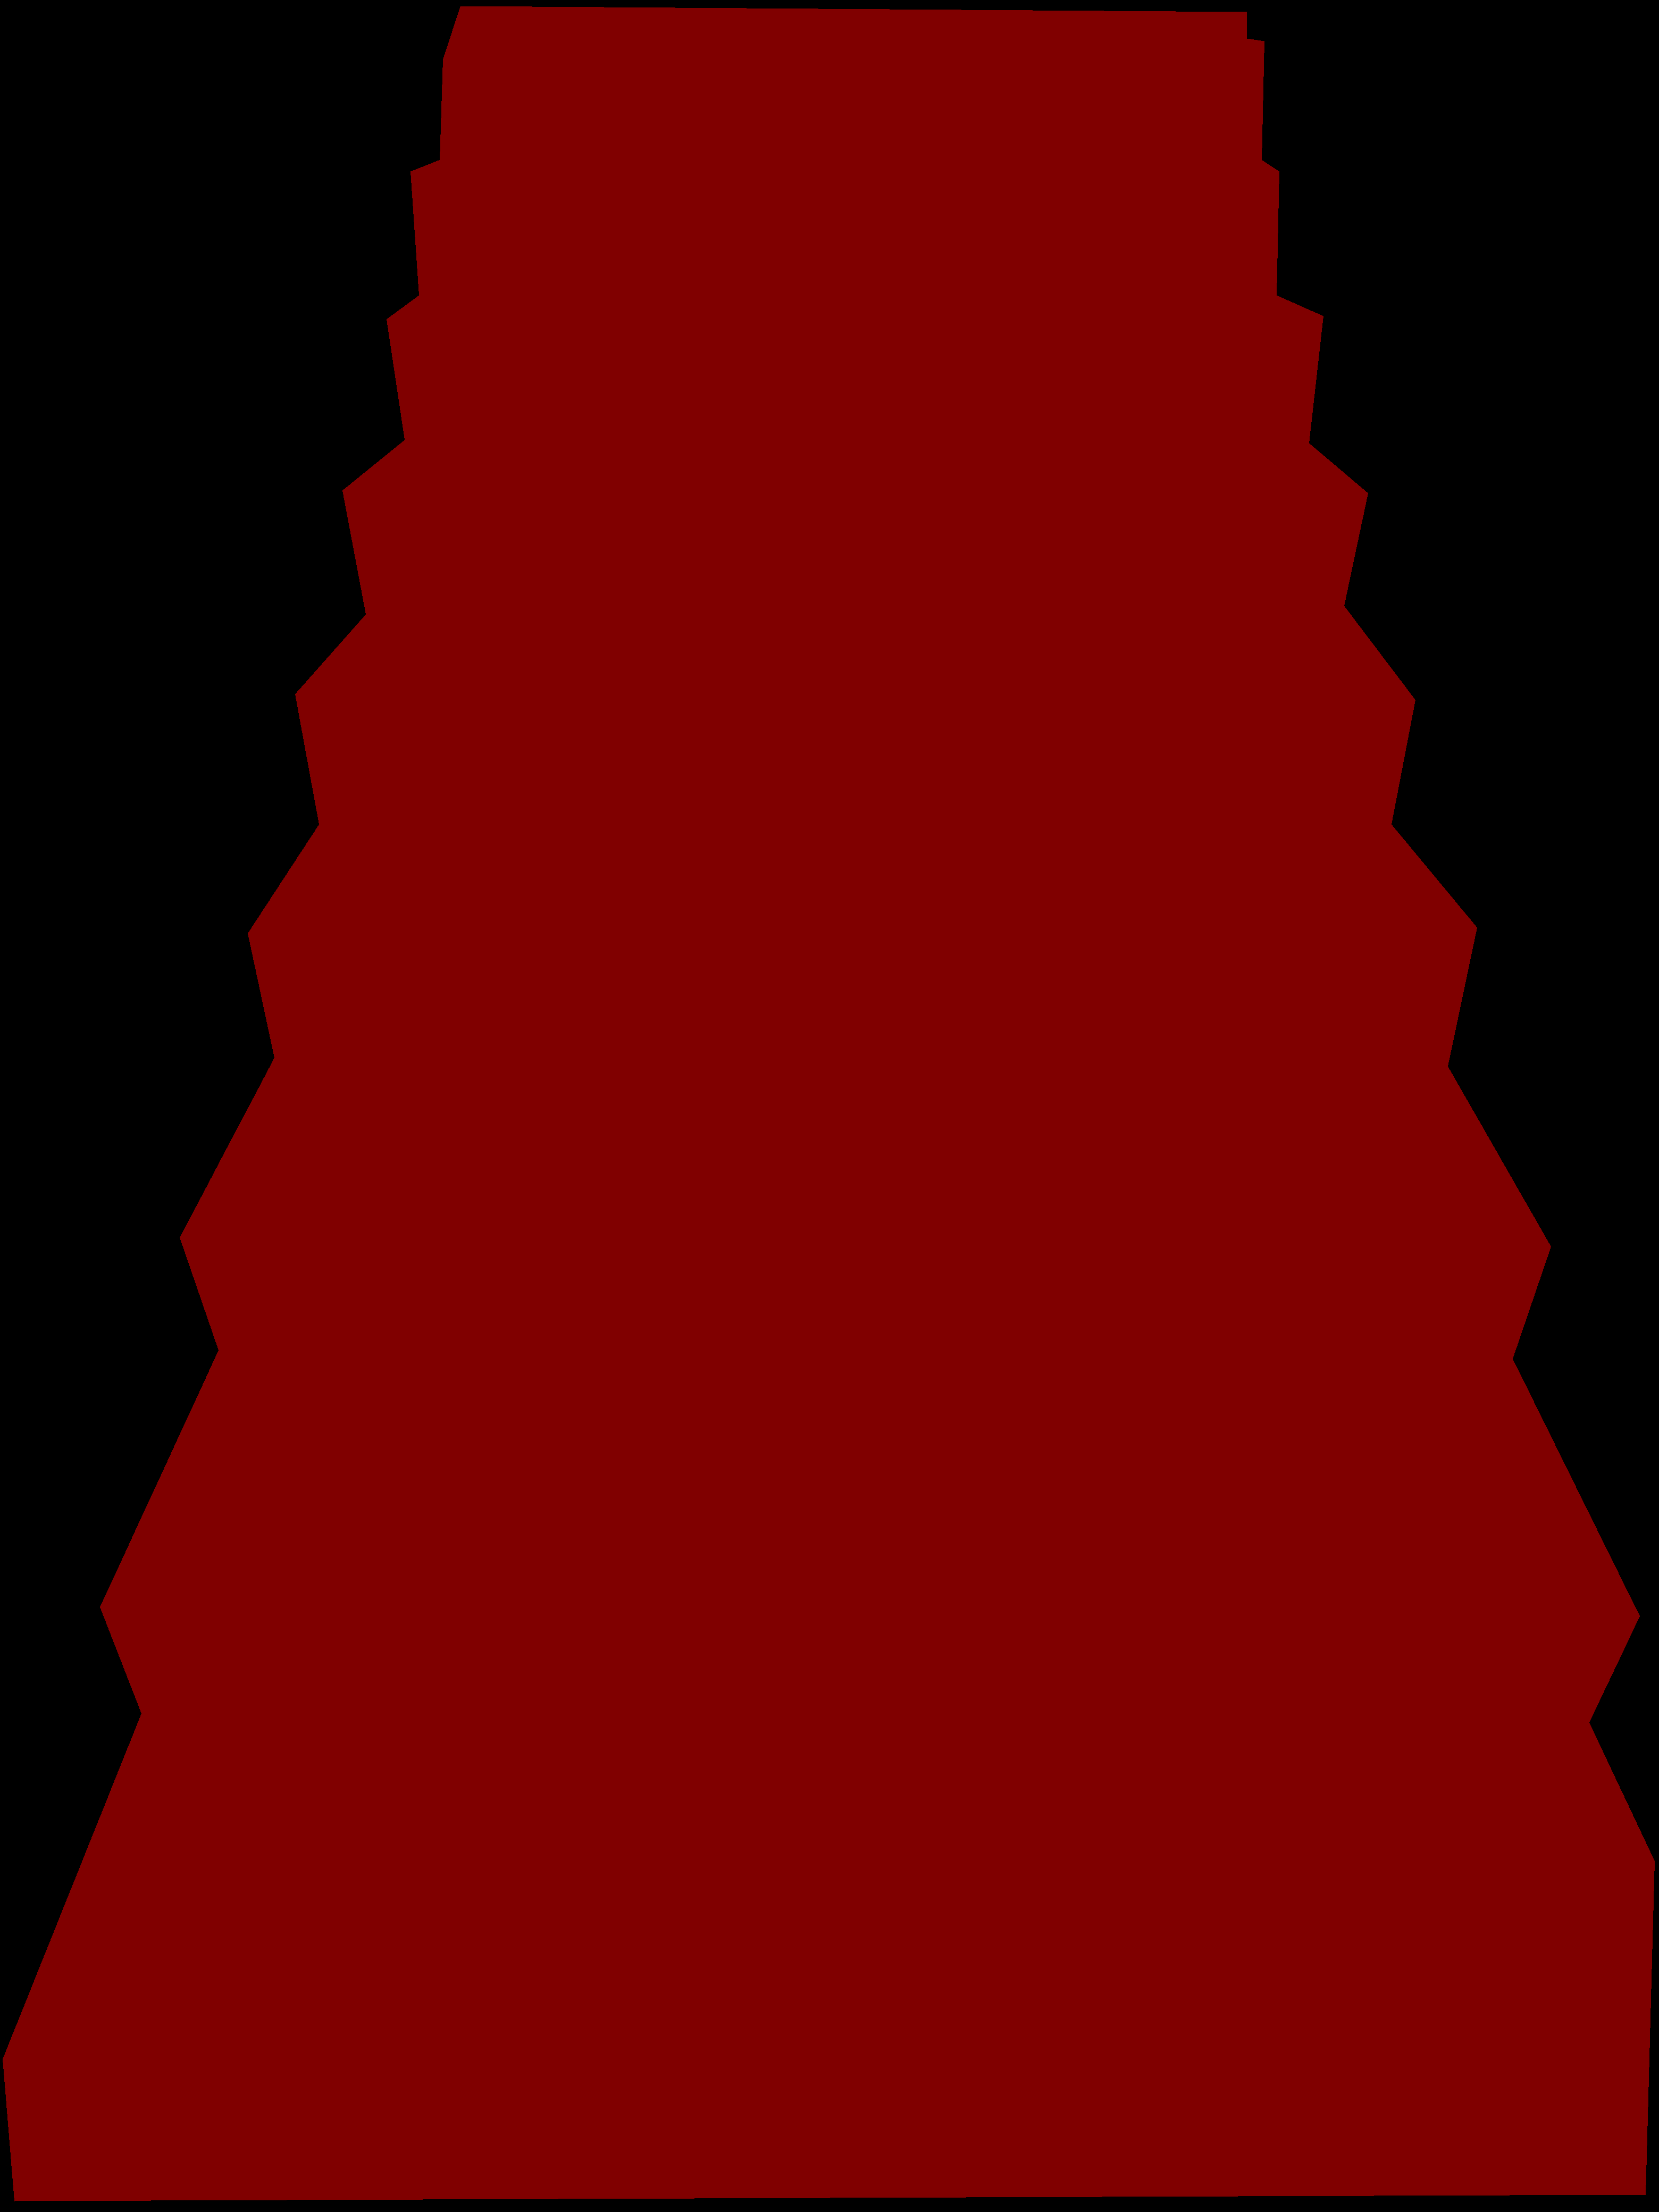stair: (3, 5, 1654, 2202)
